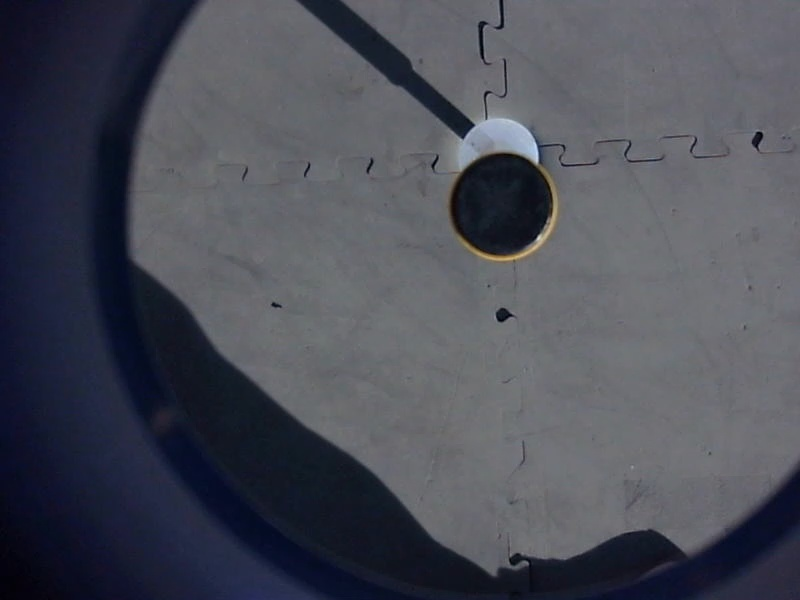tip: (439, 148, 564, 266)
